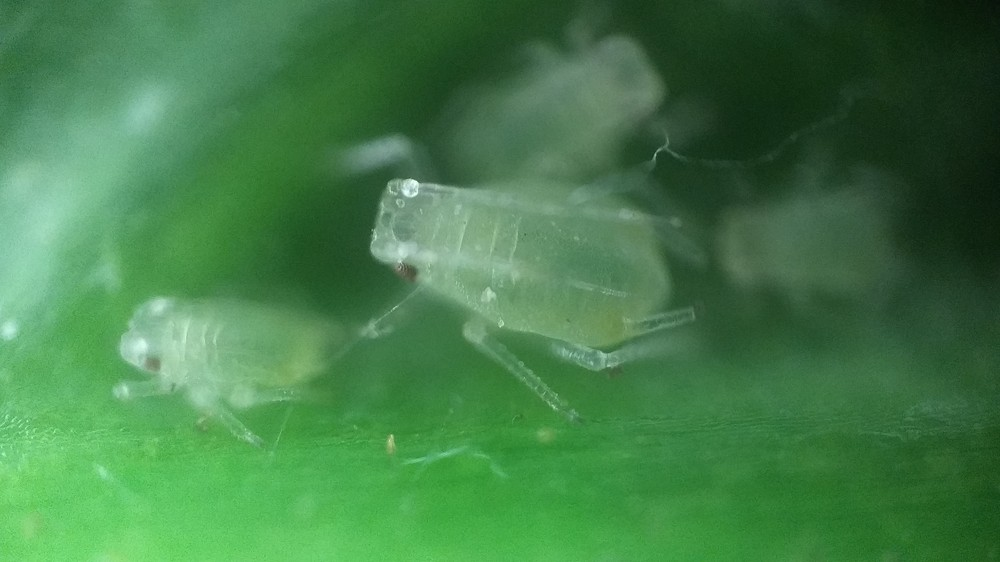Pulgon: (324, 136, 756, 431), (96, 270, 370, 454)
